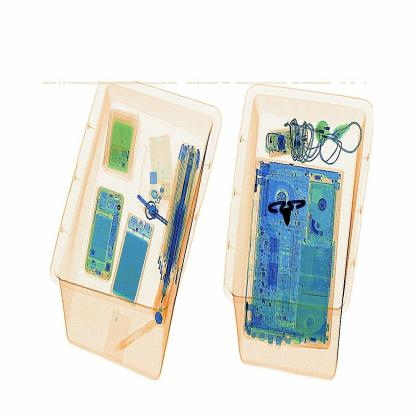gun: (265, 195, 315, 235)
